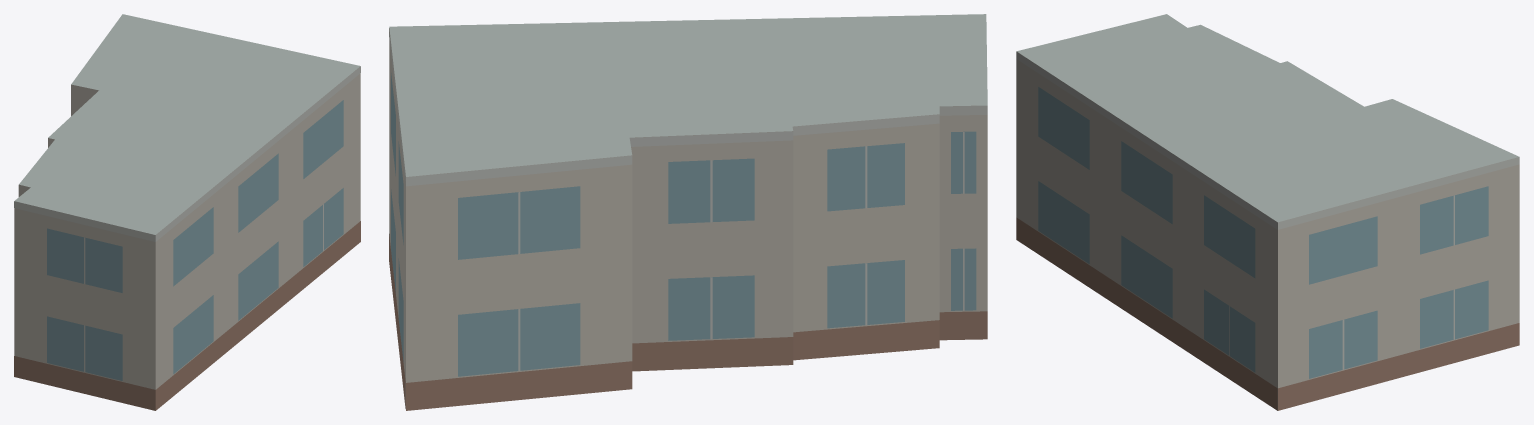
File: survey-upis-32624066.glb
3 renders of one model, left to right at view 1: azimuth 30°, elevation 25°; view 2: azimuth 150°, elevation 25°; view 3: azimuth 270°, elevation 25°, orthographic. The views are drawn at different scales.
Parts seen in each view (by area): view 1: survey-upis-32624066.tmp; view 2: survey-upis-32624066.tmp; view 3: survey-upis-32624066.tmp.
Part boxes in pixels (<box>): survey-upis-32624066.tmp: <box>14,14,360,410</box>; survey-upis-32624066.tmp: <box>389,14,987,410</box>; survey-upis-32624066.tmp: <box>1016,14,1519,410</box>.
Size of the model in its own units: 14.47 by 6.1 by 14.77.
